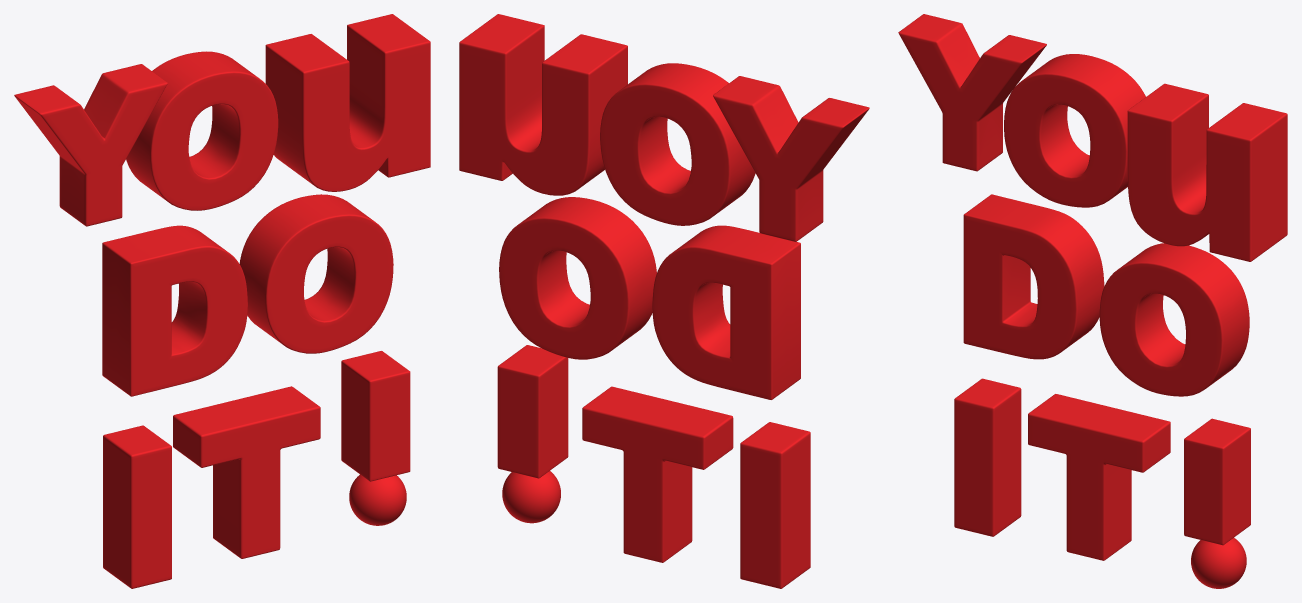
Rendered from you do it .fbx.
The picture shows the model from 3 angles, left to right: view 1: azimuth 30°, elevation 25°; view 2: azimuth 150°, elevation 25°; view 3: azimuth 330°, elevation 25°; orthographic projection. The views are drawn at different scales.
Visible parts, largest first — view 1: node_id42, node_id48, node_id56, node_id36, node_id68, node_id30, node_id62, node_id76, root; view 2: node_id42, node_id48, node_id56, node_id36, node_id68, node_id30, node_id62, node_id76, root; view 3: node_id42, node_id48, node_id56, node_id36, node_id68, node_id30, node_id62, node_id76, root.
Part boxes in pixels (bbox=[...]): node_id42: bbox=[265, 14, 430, 191]; node_id48: bbox=[102, 225, 247, 396]; node_id56: bbox=[239, 194, 393, 353]; node_id36: bbox=[126, 51, 278, 210]; node_id68: bbox=[173, 386, 320, 558]; node_id30: bbox=[14, 64, 167, 226]; node_id62: bbox=[103, 425, 171, 588]; node_id76: bbox=[341, 351, 410, 481]; root: bbox=[349, 474, 406, 525]; node_id42: bbox=[459, 14, 627, 195]; node_id48: bbox=[652, 225, 800, 399]; node_id56: bbox=[499, 197, 656, 359]; node_id36: bbox=[600, 63, 755, 225]; node_id68: bbox=[582, 386, 733, 562]; node_id30: bbox=[713, 76, 869, 241]; node_id62: bbox=[740, 422, 810, 588]; node_id76: bbox=[497, 345, 568, 478]; root: bbox=[502, 471, 560, 523]; node_id42: bbox=[1127, 83, 1287, 261]; node_id48: bbox=[963, 194, 1104, 359]; node_id56: bbox=[1099, 243, 1249, 396]; node_id36: bbox=[1004, 54, 1145, 207]; node_id68: bbox=[1028, 394, 1170, 560]; node_id30: bbox=[898, 14, 1046, 171]; node_id62: bbox=[954, 378, 1021, 536]; node_id76: bbox=[1184, 418, 1250, 545]; root: bbox=[1191, 538, 1246, 588].
Bounding box in the file's own units: 1.51 × 1.87 × 0.3128.
9 materials, 9 textured.
